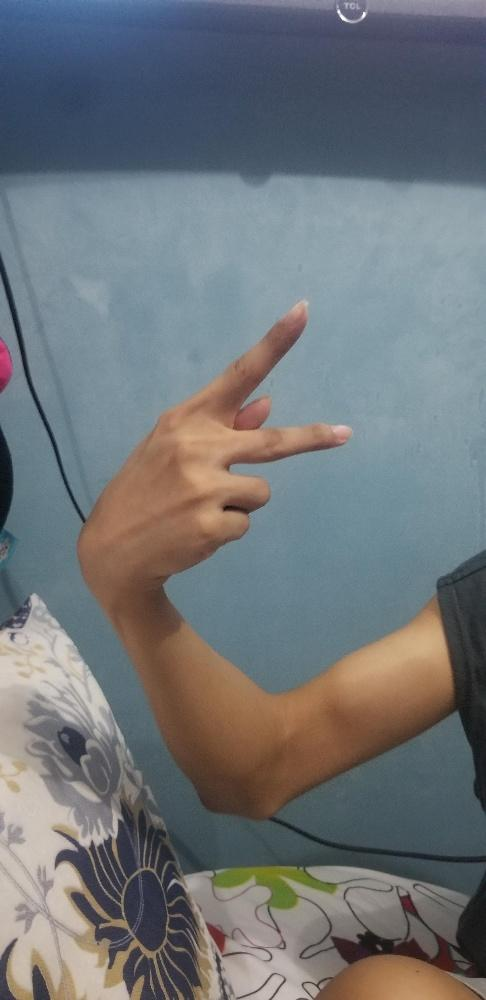k: (73, 296, 353, 608)
